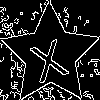X: (25, 30, 70, 84)
